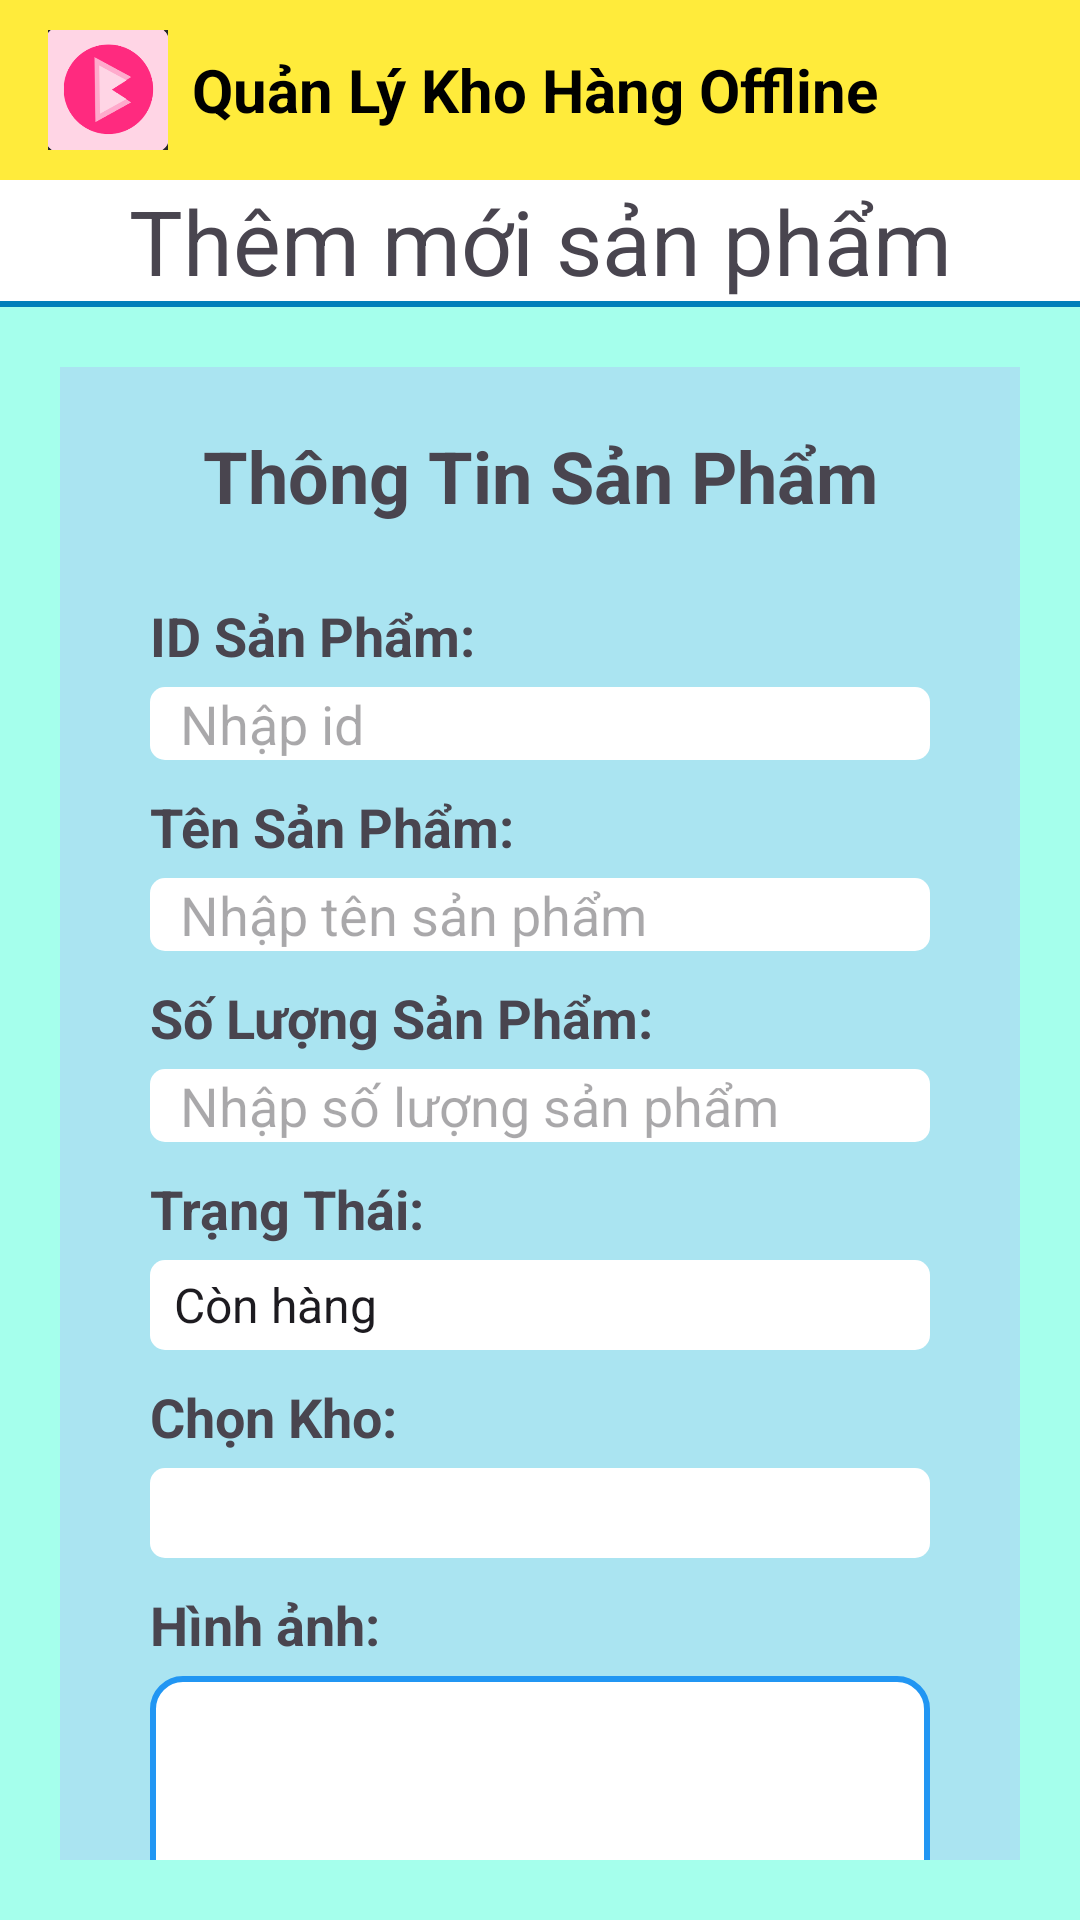

Screen size 1080×1920. Icon name, then its center in pixels as (x=x, y=y):
iconapp: (x=108, y=90)
